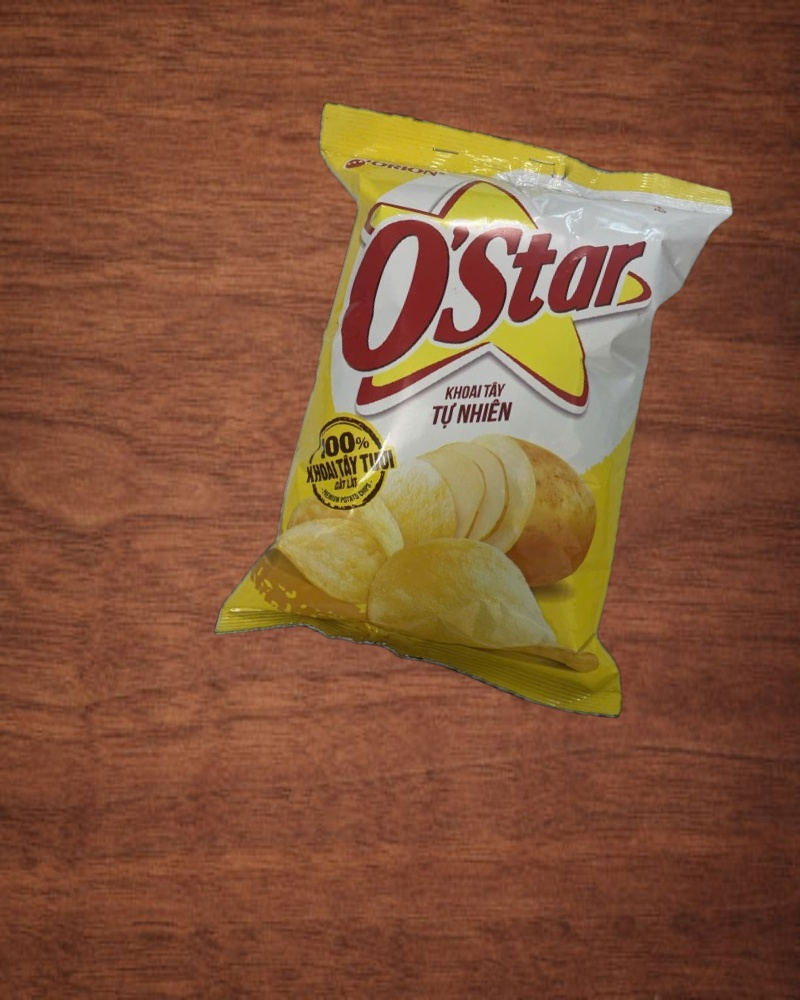O'star: (186, 85, 758, 741)
